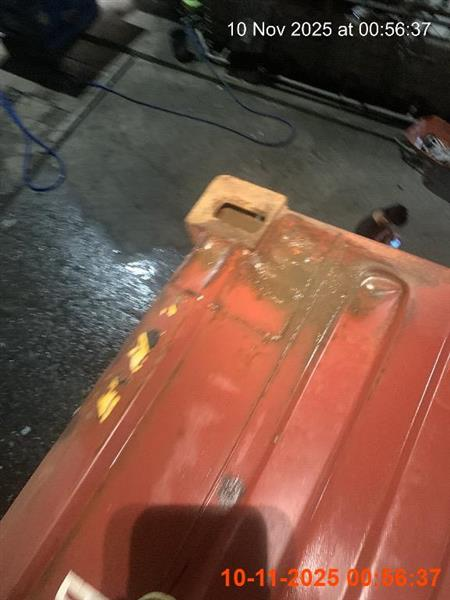broken: (0, 173, 449, 599), (0, 0, 102, 97), (352, 203, 409, 248)
